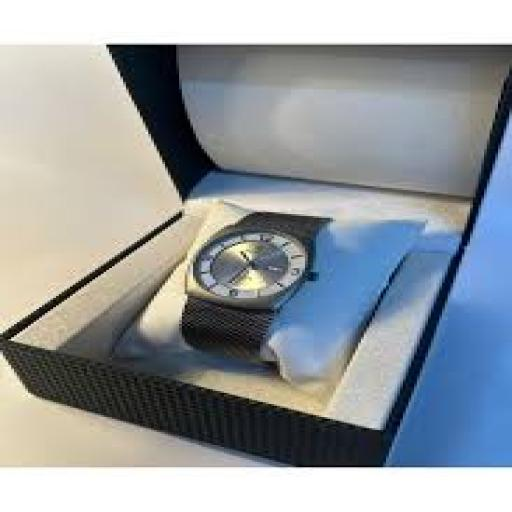KolSaati: (130, 157, 344, 376)
